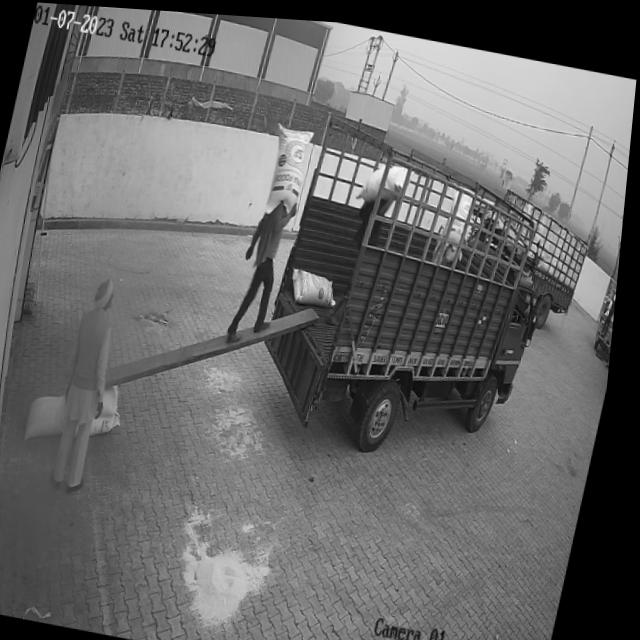sack: (263, 118, 316, 214), (30, 389, 77, 442), (290, 261, 345, 305), (98, 407, 129, 437), (103, 380, 129, 415)
